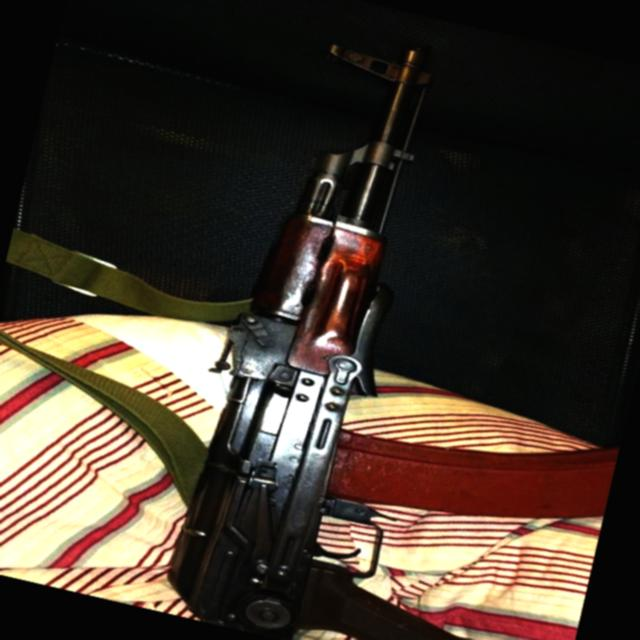ak: (152, 8, 624, 640)
